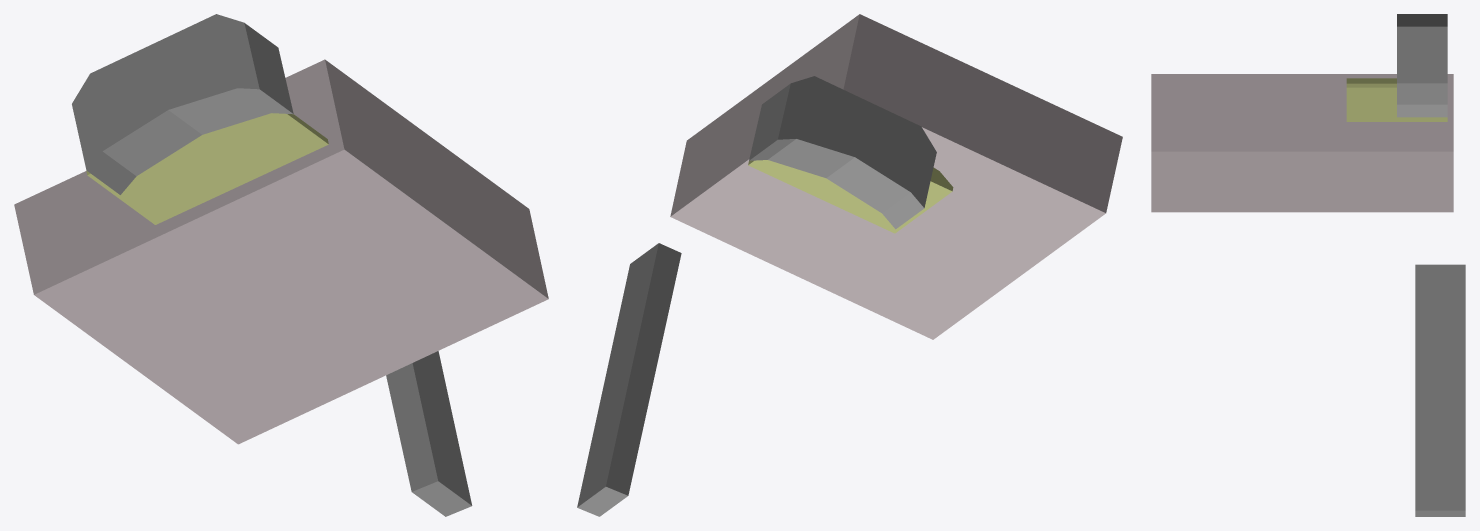
3 views of the same model, side by side, from view 1: azimuth 30°, elevation 25°; view 2: azimuth 150°, elevation 25°; view 3: azimuth 270°, elevation 25° (orthographic). The views are drawn at different scales.
Visible parts, largest first — view 1: 0_1_2_0_1_3_3_0_2_3; view 2: 0_1_2_0_1_3_3_0_2_3; view 3: 0_1_2_0_1_3_3_0_2_3.
Boxes of the visible parts, x1=… form: 0_1_2_0_1_3_3_0_2_3: x1=14, y1=14, x2=548, y2=516; 0_1_2_0_1_3_3_0_2_3: x1=577, y1=14, x2=1122, y2=516; 0_1_2_0_1_3_3_0_2_3: x1=1151, y1=14, x2=1465, y2=516.
Bounding box in the file's own units: 21.98 × 26.13 × 18.72.
